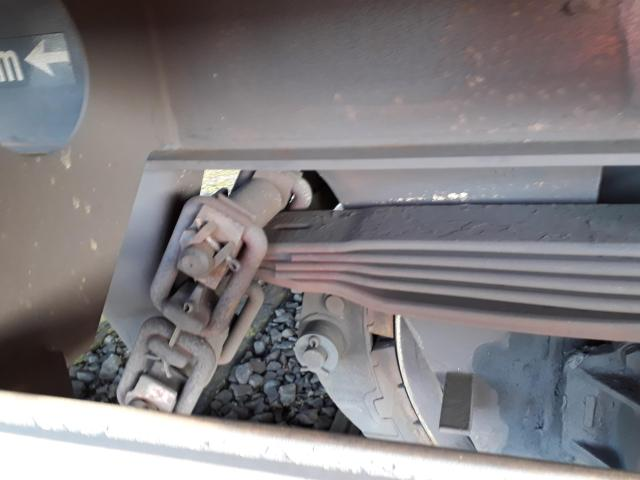blattfederww: (286, 206, 640, 344)
